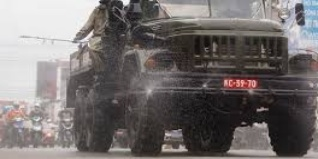plate: (223, 75, 259, 91)
